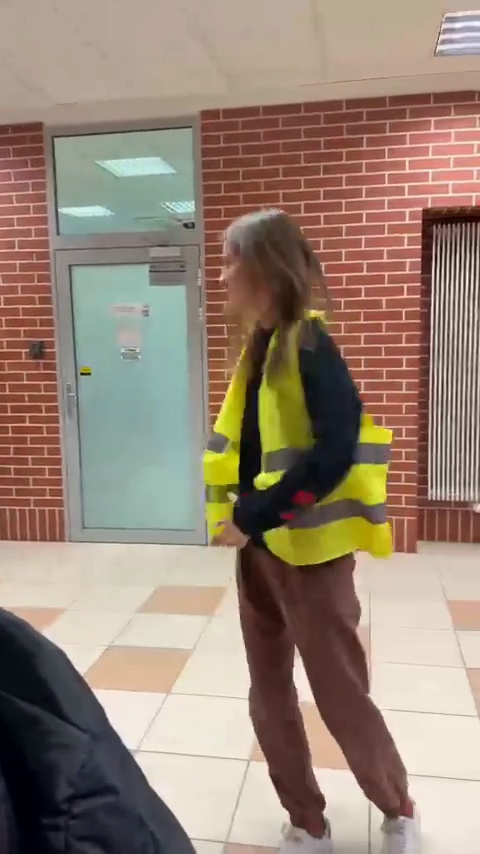vest: (193, 204, 437, 851)
